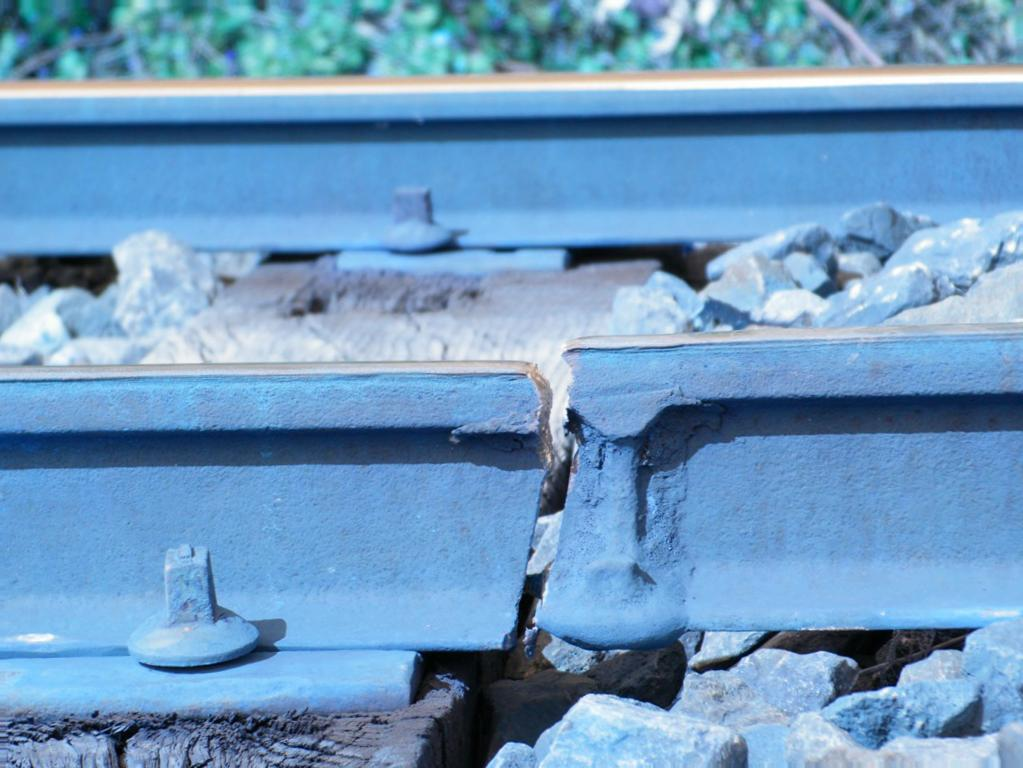tracks_fault: (461, 309, 679, 695)
